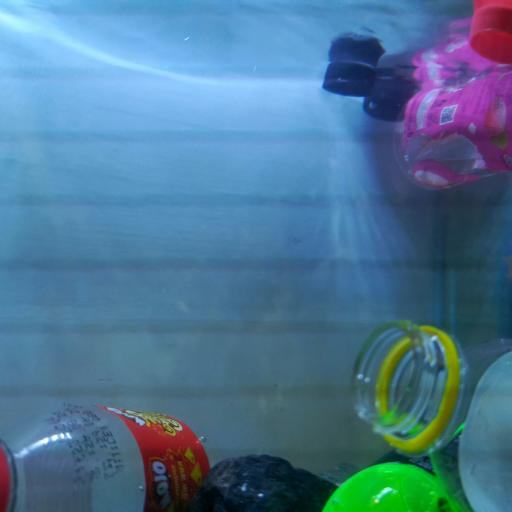bottle_cap: (468, 7, 512, 62), (364, 78, 418, 122), (325, 60, 378, 96)
plastic_bottle: (0, 399, 307, 512), (347, 316, 512, 512), (325, 435, 512, 512), (391, 71, 512, 188)
